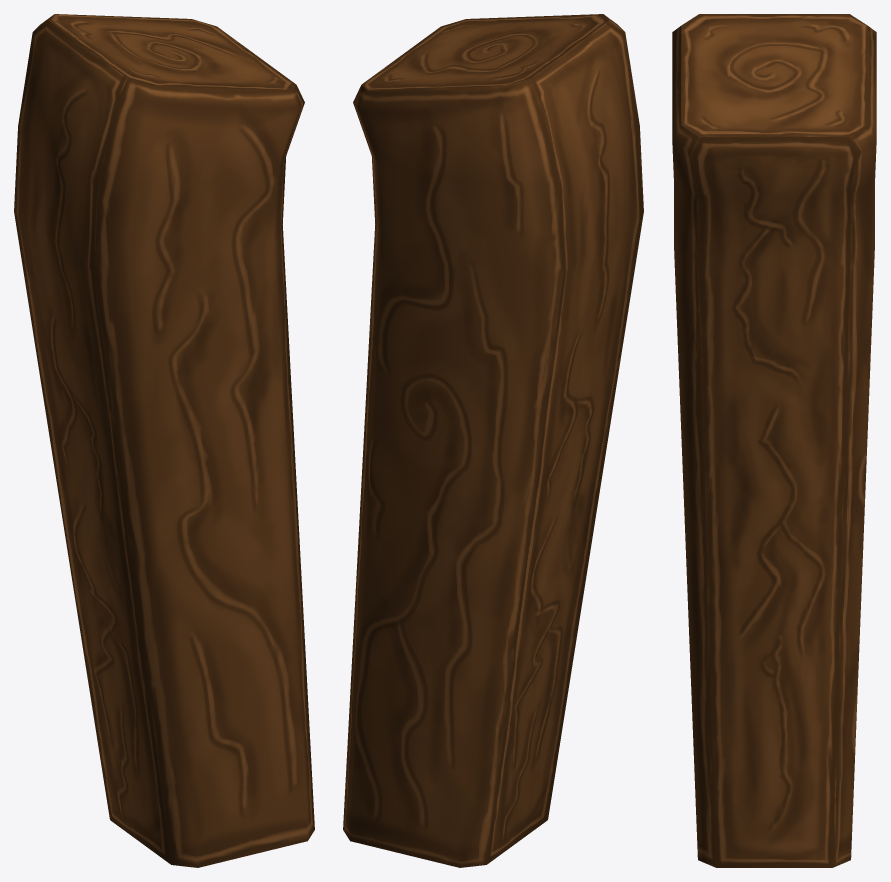
File: fence_pole.FBX
3 views of the same model, side by side, from view 1: azimuth 30°, elevation 25°; view 2: azimuth 150°, elevation 25°; view 3: azimuth 270°, elevation 25° (orthographic). The views are drawn at different scales.
Visible parts, largest first — view 1: fence_007; view 2: fence_007; view 3: fence_007.
Boxes of the visible parts, left/top/right/bottom form: fence_007: left=14, top=14, right=314, bottom=867; fence_007: left=343, top=14, right=643, bottom=867; fence_007: left=672, top=14, right=876, bottom=867.
Bounding box in the file's own units: 10.99 × 36.76 × 8.92.
